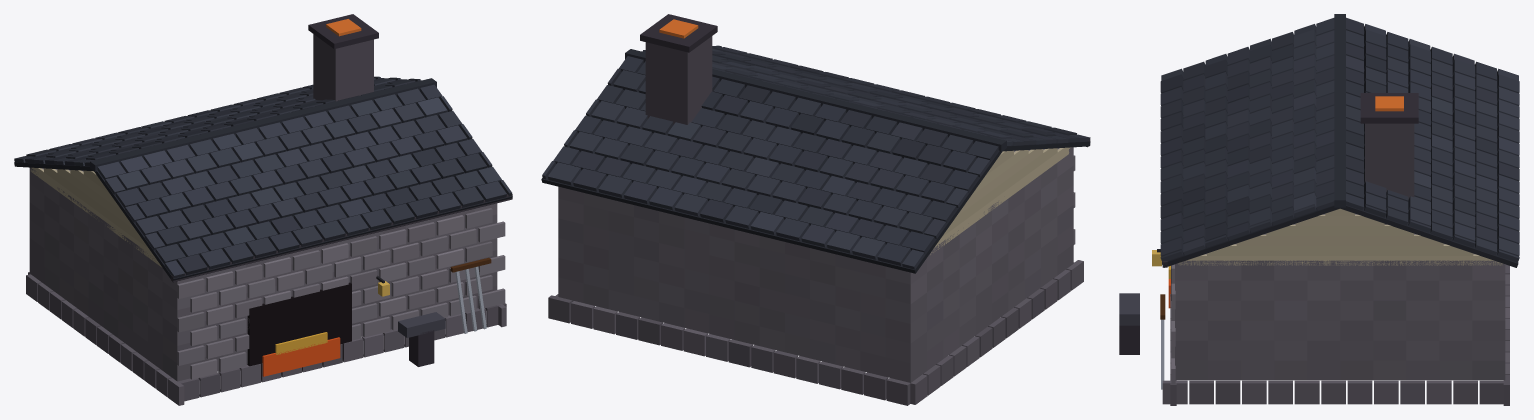
File: b_smith.glb
The picture shows the model from 3 angles, left to right: view 1: azimuth 30°, elevation 25°; view 2: azimuth 150°, elevation 25°; view 3: azimuth 270°, elevation 25°; orthographic projection. The views are drawn at different scales.
Parts seen in each view (by area): view 1: b_smith; view 2: b_smith; view 3: b_smith.
Part boxes in pixels (x1,y1,x2,y2): b_smith: [14, 14, 512, 405]; b_smith: [541, 14, 1090, 405]; b_smith: [1119, 14, 1519, 405].
Bounding box in the file's own units: 5.34 × 3.6 × 4.85.
